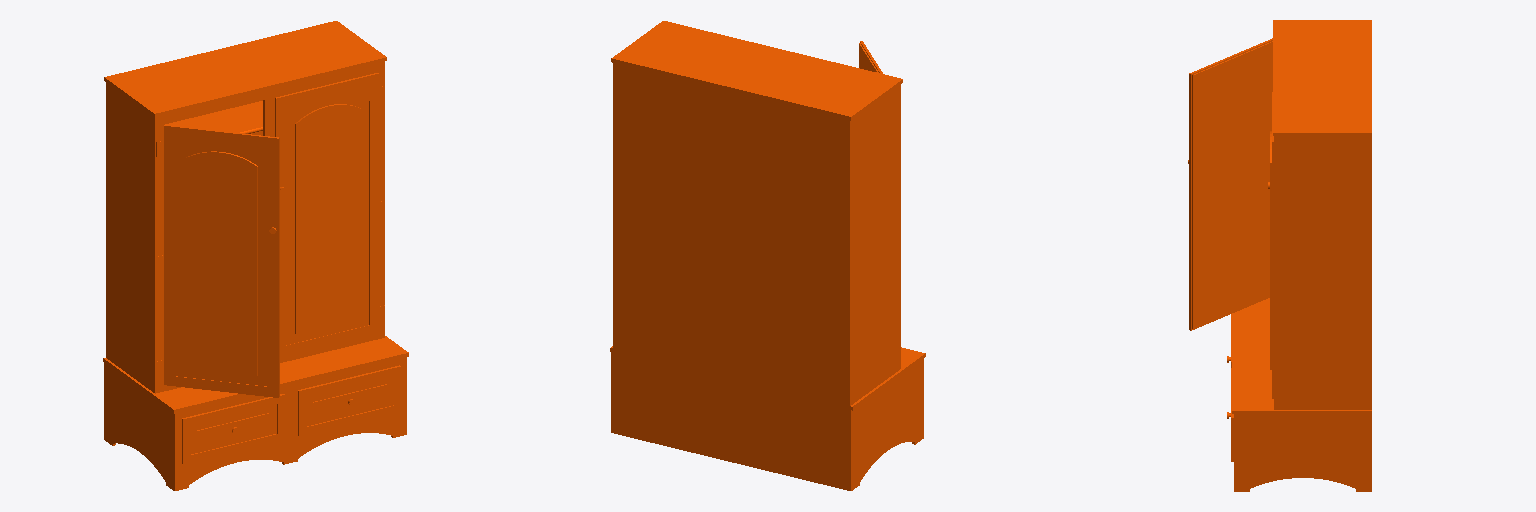
The robot description file, URDF, robot "Armoire_13f565d814bd5647adcda92177beb1f7":
<?xml version="1.0" ?>
<robot name="Armoire_13f565d814bd5647adcda92177beb1f7">
   <material name="obj_color">
      <color rgba="1.0 0.423529411765 0.0392156862745 1.0"/>
   </material>
   <link name="top">
      <inertial>
         <origin rpy="0.0005636204368715556 0.001089489034423446 0.001336691908614786" xyz="0.0008612292637357474 -0.002635833701681743 -0.009907936009864575"/>
         <mass value="0.6359531648507522"/>
         <inertia ixx="0.001090035073565353" ixy="-1.257561559289452e-05" ixz="7.6107278868683e-06" iyy="0.001335909044767542" iyz="-1.007531746636131e-05" izz="0.0005638572615768928"/>
      </inertial>
      <visual>
         <origin rpy="0 0 0" xyz="0 0 0"/>
         <geometry>
            <mesh filename="top_watertight_tiny.stl" scale="1 1 1"/>
         </geometry>
         <material name="obj_color"/>
      </visual>
      <collision>
         <origin rpy="0 0 0" xyz="0 0 0"/>
         <geometry>
            <mesh filename="top_watertight_tiny.obj" scale="1 1 1"/>
         </geometry>
      </collision>
   </link>
   <link name="bottom">
      <inertial>
         <origin rpy="1.633333333199431e-08 1.633333333199431e-08 1.633333333362855e-08" xyz="0.3464080000000008 0.3464080000000008 0.3464080000000008"/>
         <mass value="0.0009800000000000017"/>
         <inertia ixx="1.633333333253906e-08" ixy="5.447480642029219e-19" ixz="5.447480642029219e-19" iyy="1.633333333253906e-08" iyz="5.447480642029219e-19" izz="1.633333333253906e-08"/>
      </inertial>
      <visual>
         <origin rpy="0 0 0" xyz="0 0 0"/>
         <geometry>
            <mesh filename="bottom_watertight_tiny.stl" scale="1 1 1"/>
         </geometry>
         <material name="obj_color"/>
      </visual>
   </link>
   <joint name="rotation" type="revolute">
      <origin xyz="0 0 0"/>
      <axis xyz="0 0 -1"/>
      <parent link="bottom"/>
      <child link="top"/>
      <dynamics damping="1.0" friction="1.0"/>
      <limit effort="0.1" velocity="0.1" lower="0" upper="0.001"/>
   </joint>
</robot>

--- Render facts (derived) ---
Views: 3 orthographic renders of the robot side by side, from view 1: azimuth 30°, elevation 25°; view 2: azimuth 150°, elevation 25°; view 3: azimuth 270°, elevation 25°.
Robot: Armoire_13f565d814bd5647adcda92177beb1f7 — 2 links, 1 joints (1 revolute); root link bottom; default pose: all joints at 0.
Visible links, largest first — view 1: top; view 2: top; view 3: top.
Boxes of the visible links, bbox=[...] form: top: bbox=[103, 21, 408, 490]; top: bbox=[610, 21, 925, 490]; top: bbox=[1188, 20, 1371, 491].
Bounding box of the posed robot: 0.0916 × 0.0631 × 0.1353 m (x, y, z).
Meshes: 2 distinct files referenced, 1 mesh visuals loaded (1 binary STL); not drawn: 1 (reference not matched to a file when rendering).
